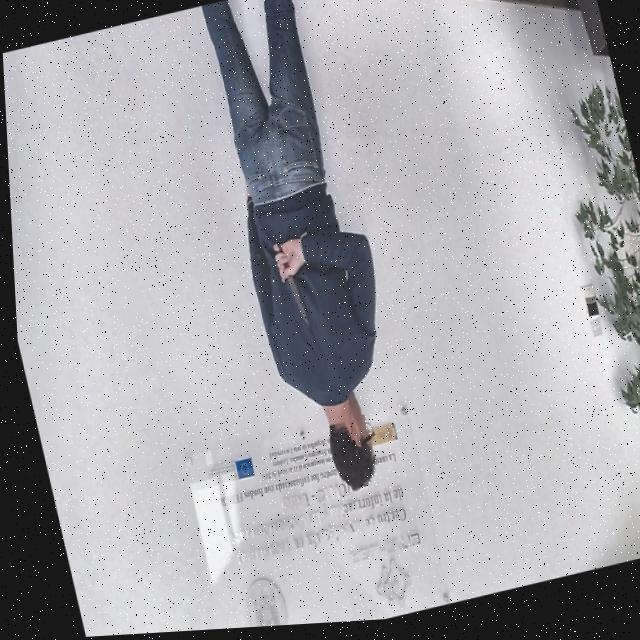knife: (279, 274, 304, 332)
